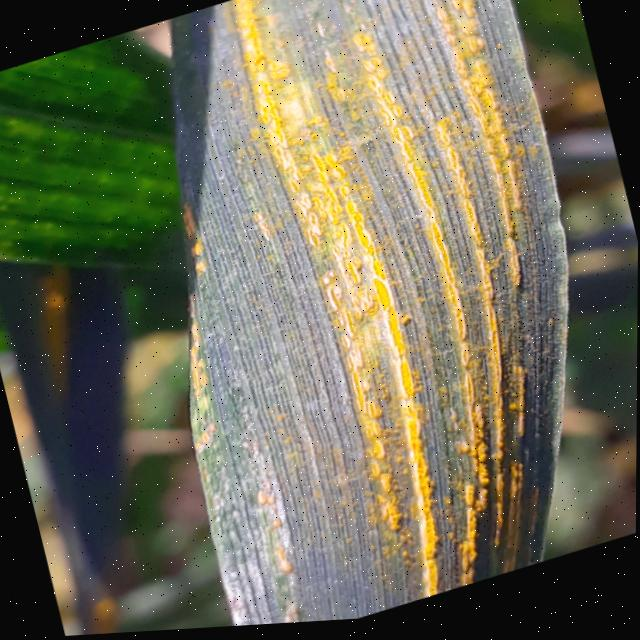yellow_rust: (86, 0, 640, 636), (0, 249, 141, 432), (51, 558, 143, 637)
